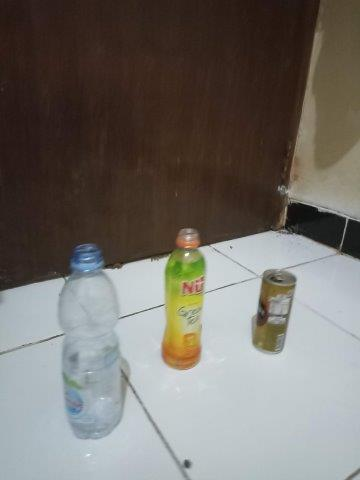botolplastik: (56, 243, 122, 441), (161, 228, 207, 370)
kaleng: (252, 268, 298, 355)
